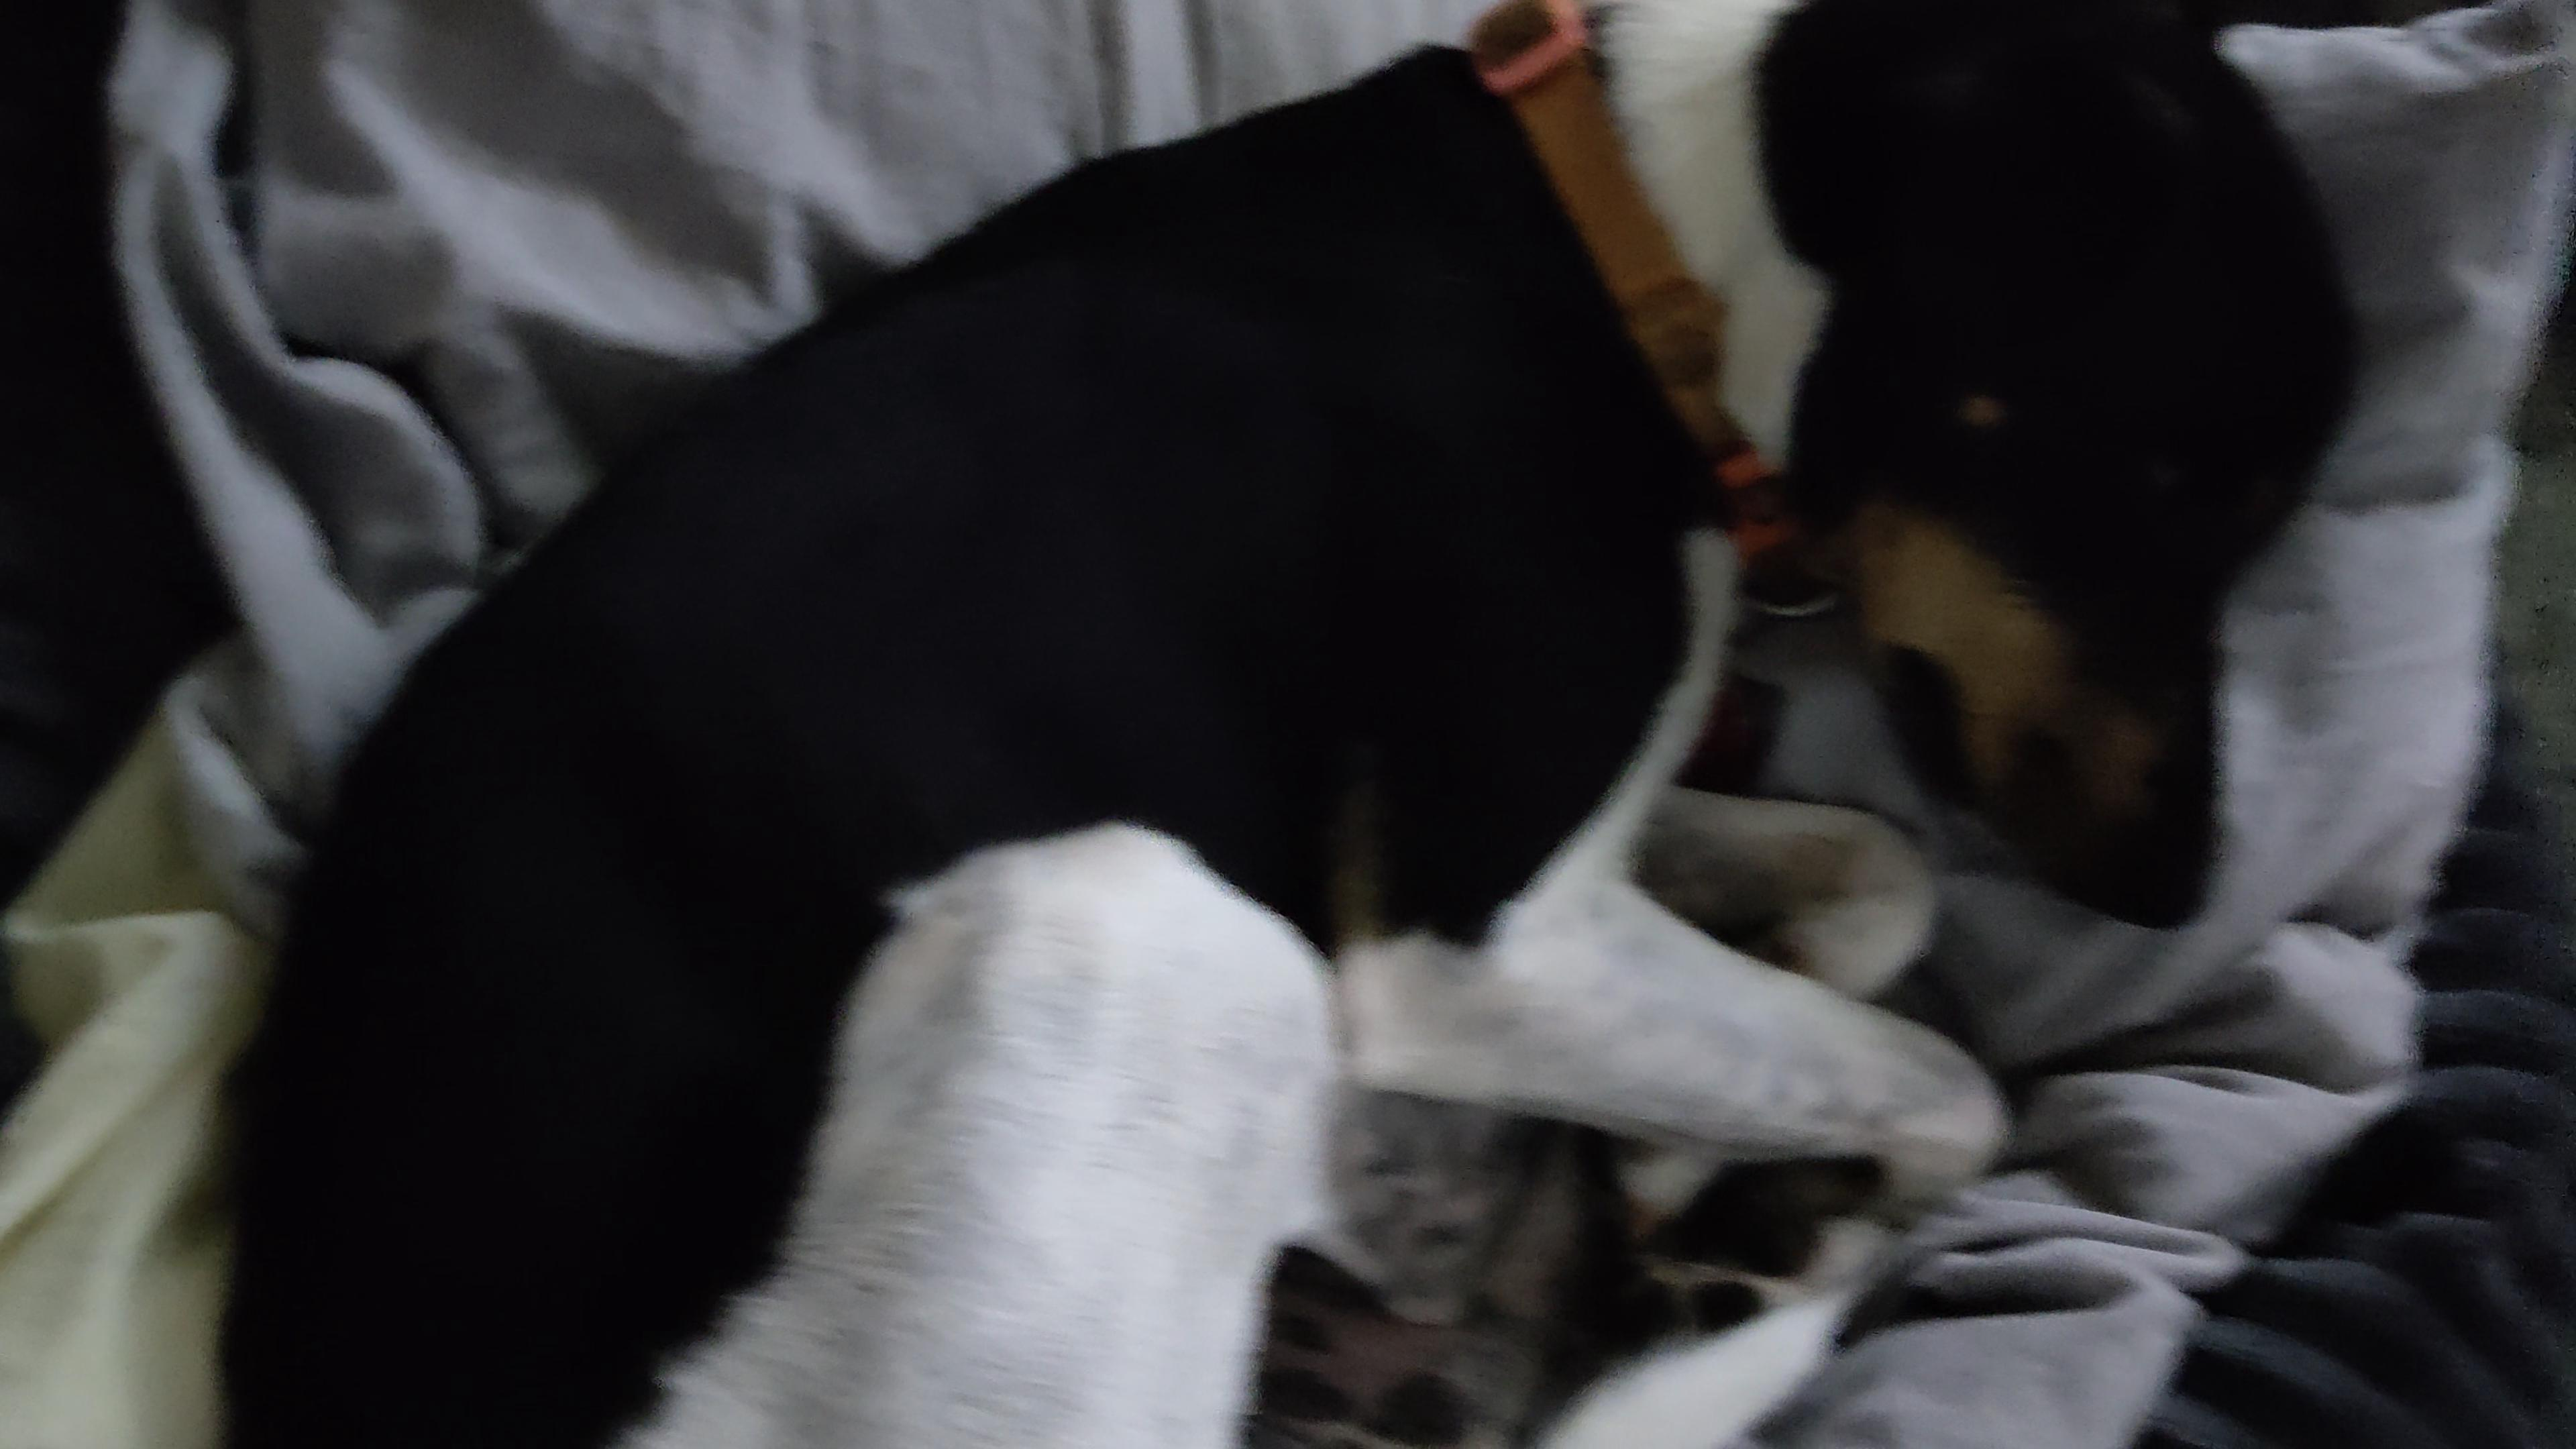Dog: (161, 0, 2390, 1449)
